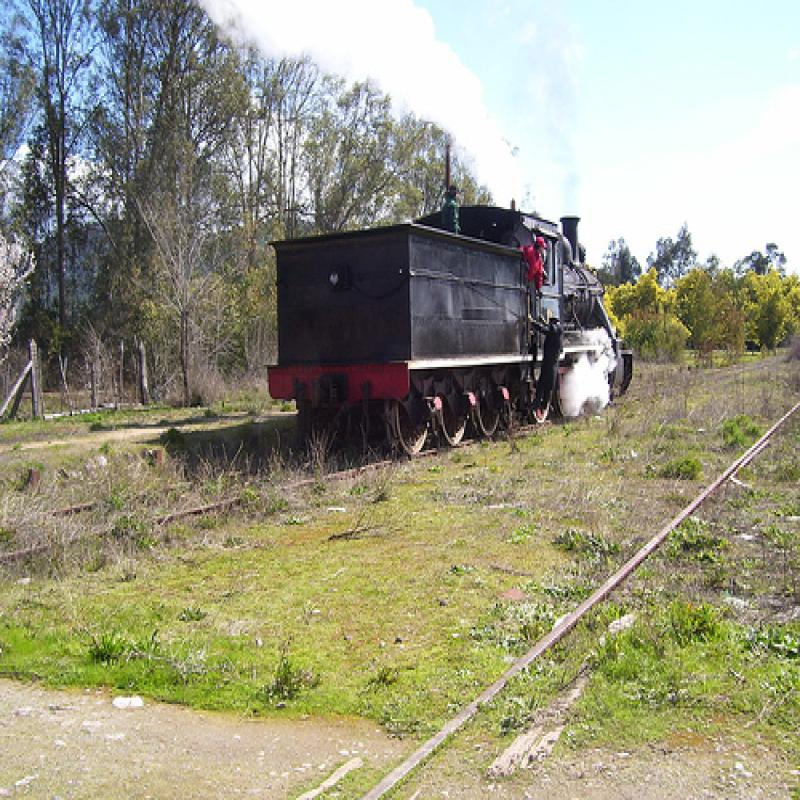train: (265, 206, 638, 462)
